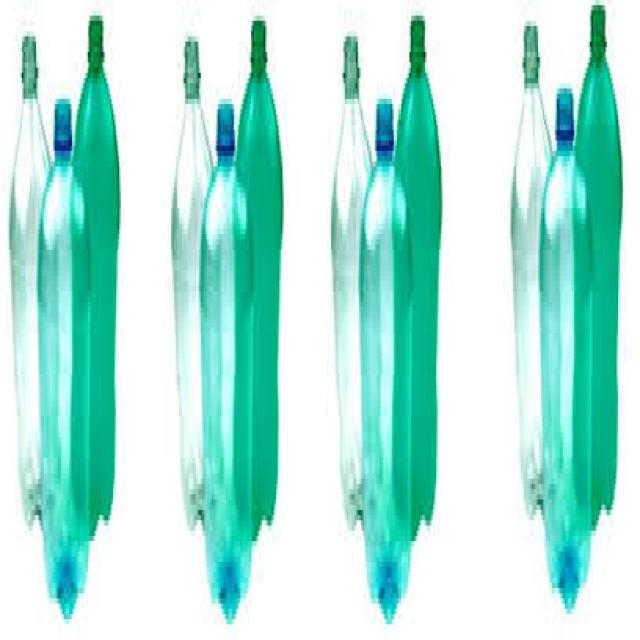bottle: (360, 104, 411, 622), (201, 104, 252, 620), (540, 87, 590, 610), (39, 100, 89, 618), (575, 4, 622, 525), (395, 17, 441, 537), (74, 17, 120, 535), (236, 21, 282, 537), (171, 37, 212, 527), (331, 37, 371, 529), (511, 25, 551, 516), (10, 37, 50, 522)
